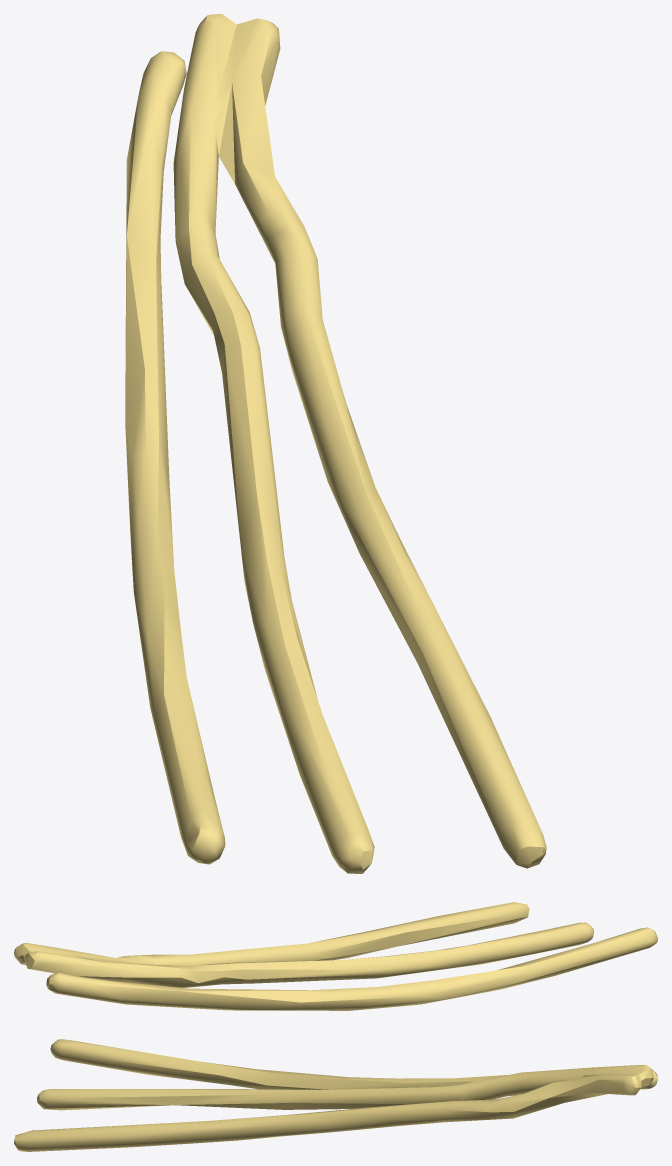
Rendered from fma7041_fj1370.glb.
The picture shows the model from 3 angles, top to bottom: view 1: azimuth 30°, elevation 25°; view 2: azimuth 150°, elevation 25°; view 3: azimuth 270°, elevation 25°; orthographic projection. The views are drawn at different scales.
Visible parts, largest first — view 1: FMA7041_FJ1370; view 2: FMA7041_FJ1370; view 3: FMA7041_FJ1370.
Part boxes in pixels (x1,y1,x2,y2): FMA7041_FJ1370: (125, 14, 546, 873); FMA7041_FJ1370: (14, 902, 657, 1010); FMA7041_FJ1370: (14, 1039, 657, 1151).
Size of the model in its own units: 0.00907 by 0.00419 by 0.0153.
